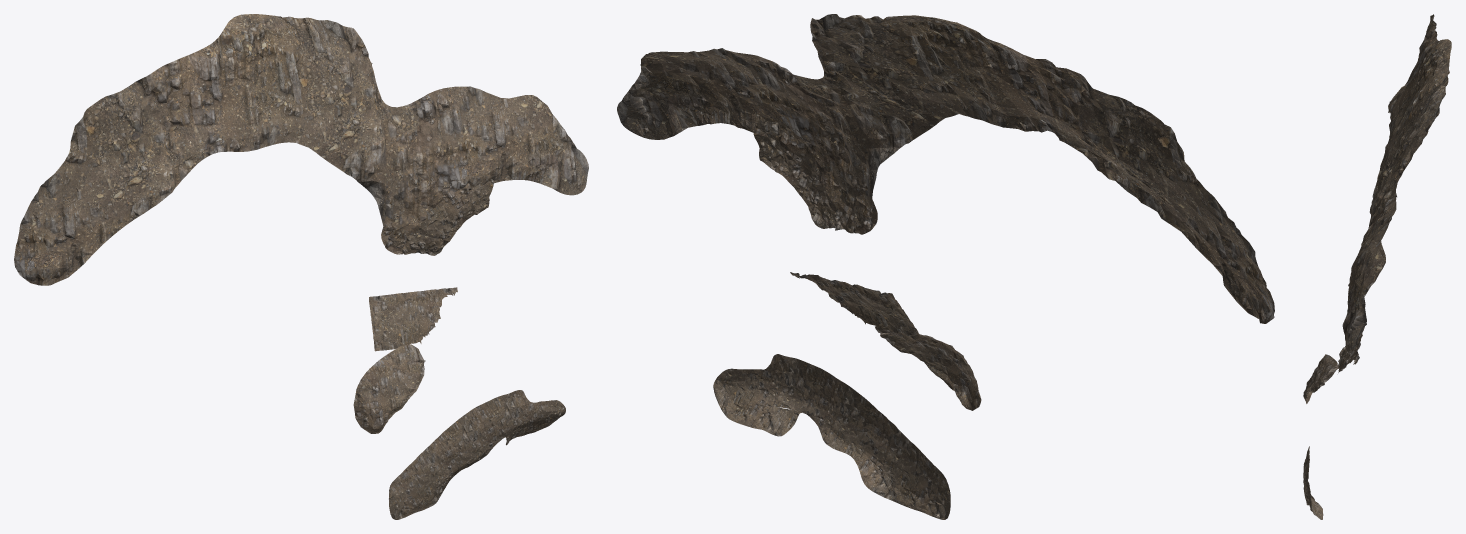
The picture shows the model from 3 angles, left to right: view 1: azimuth 30°, elevation 25°; view 2: azimuth 150°, elevation 25°; view 3: azimuth 270°, elevation 25°; orthographic projection. The views are drawn at different scales.
Bounding box in the file's own units: 294 × 242 × 77.99.
Materials: 1 (1 with a texture image).
